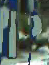Parking: (4, 4, 42, 64)
